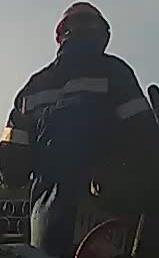helmet: (56, 2, 112, 42)
vest: (14, 54, 146, 194)
